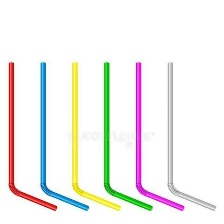drinking_straw: (34, 59, 91, 214), (3, 58, 60, 213), (161, 60, 218, 214), (100, 59, 156, 213)
